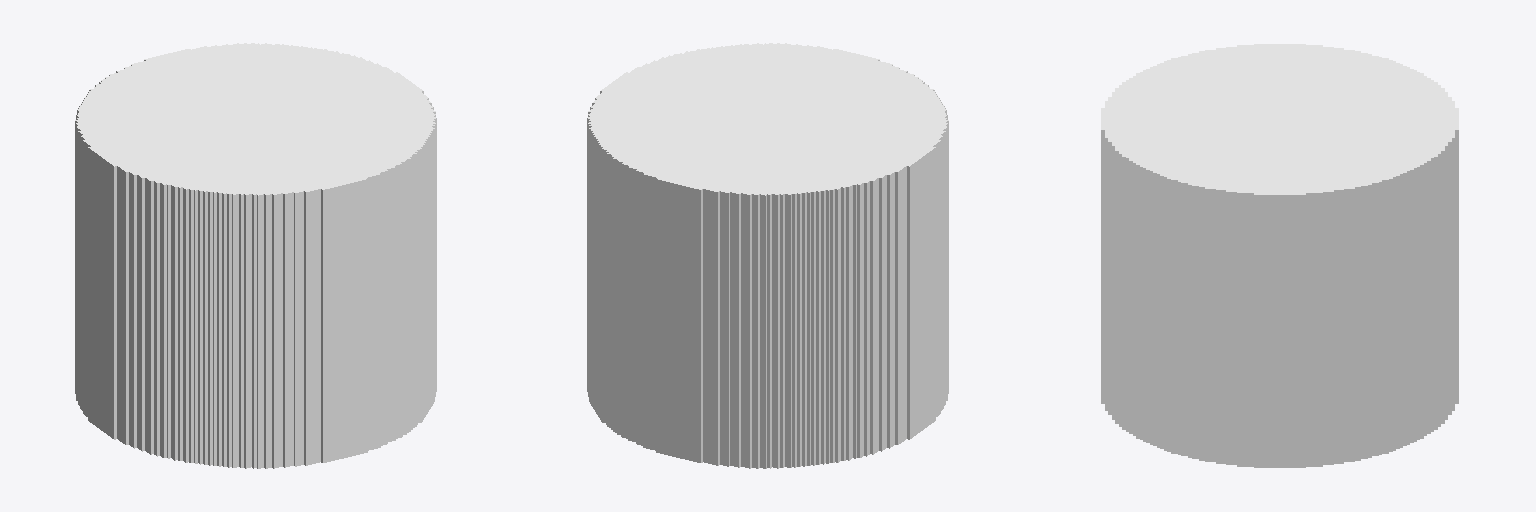
The model's file is lev1-4.obj.
The picture shows the model from 3 angles: view 1: azimuth 30°, elevation 25°; view 2: azimuth 150°, elevation 25°; view 3: azimuth 270°, elevation 25°; orthographic projection.
Parts seen in each view (by area): view 1: object 1; view 2: object 1; view 3: object 1.
Part boxes in pixels (bbox=[...]): object 1: bbox=[75, 43, 436, 468]; object 1: bbox=[587, 43, 948, 468]; object 1: bbox=[1101, 44, 1458, 467].
Size of the model in its own units: 10.3 by 8.7 by 10.3.